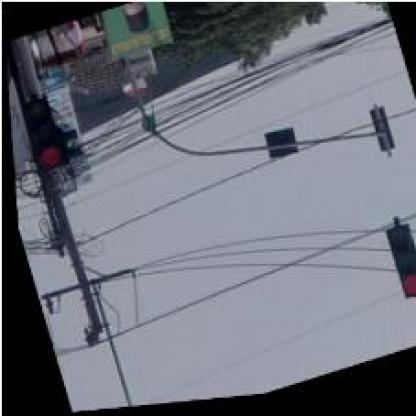red: (20, 98, 62, 173), (378, 227, 414, 308)
